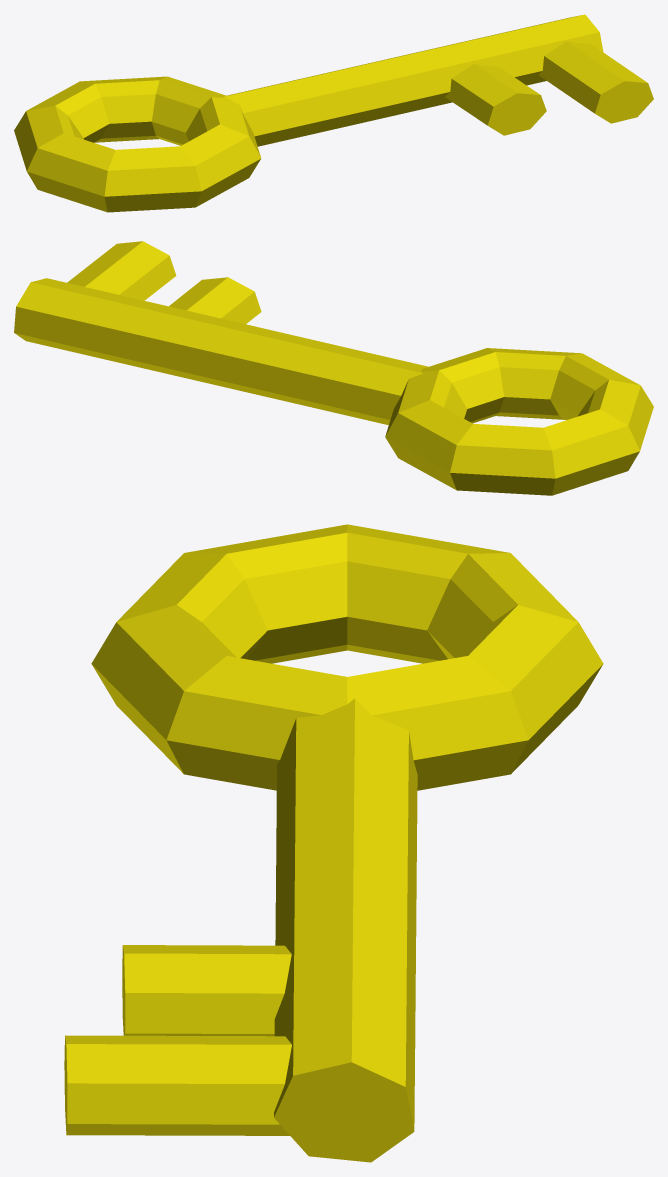
The model's file is Key.fbx.
The picture shows the model from 3 angles, top to bottom: view 1: azimuth 30°, elevation 25°; view 2: azimuth 150°, elevation 25°; view 3: azimuth 270°, elevation 25°; orthographic projection. The views are drawn at different scales.
Parts seen in each view (by area): view 1: pCylinder4; view 2: pCylinder4; view 3: pCylinder4.
Boxes of the visible parts, x1=… form: pCylinder4: x1=14, y1=14, x2=653, y2=212; pCylinder4: x1=14, y1=241, x2=653, y2=495; pCylinder4: x1=64, y1=524, x2=603, y2=1162.
Size of the model in its own units: 0.494 by 0.0508 by 0.2061.
